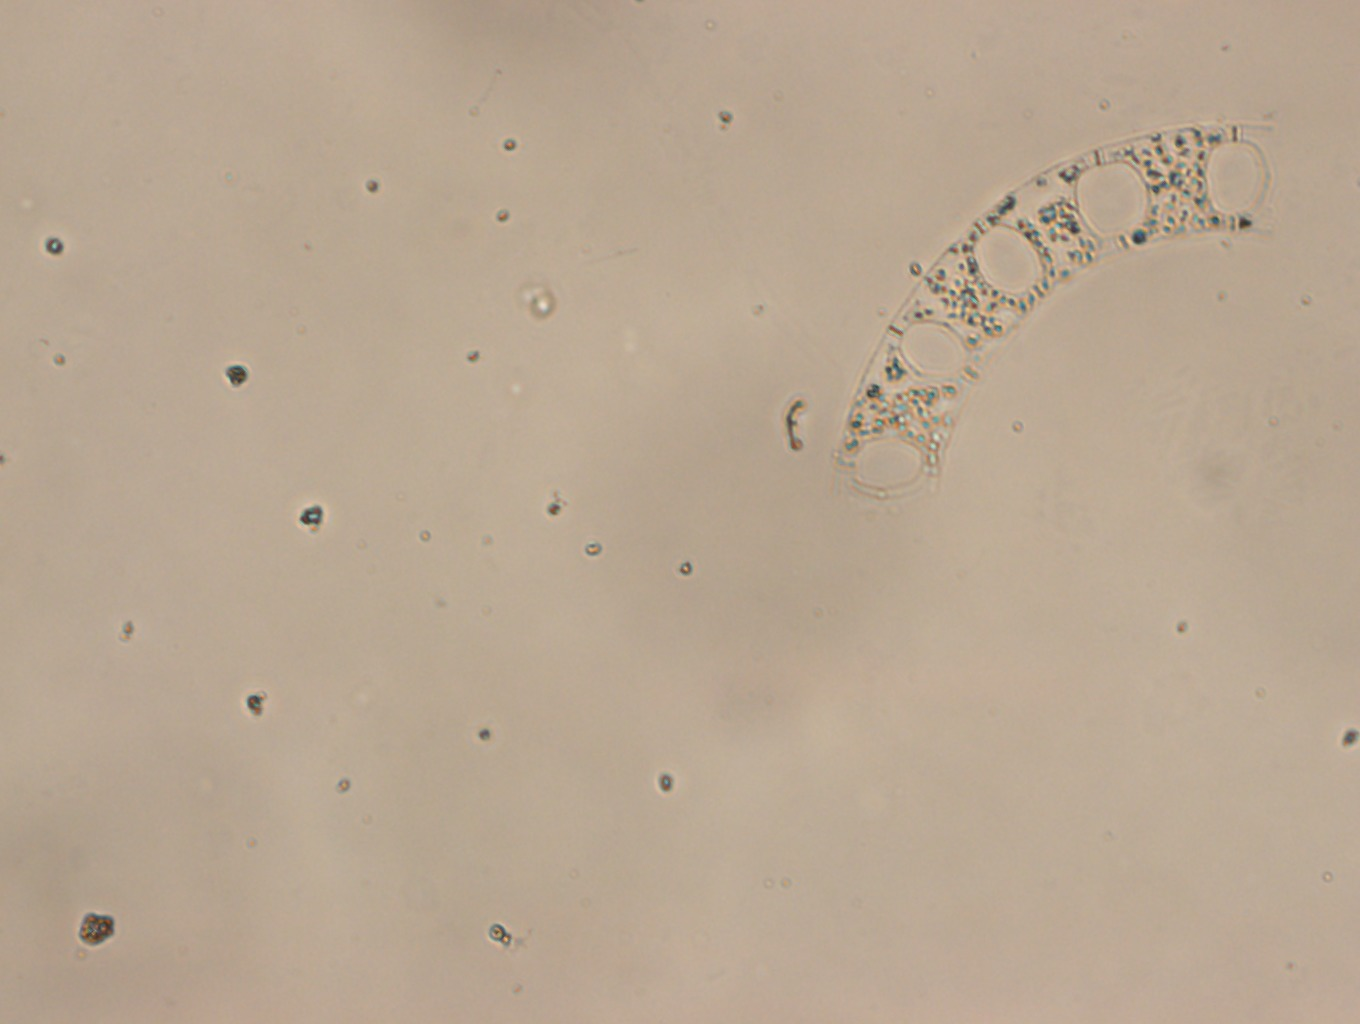eucampia: (827, 122, 1280, 506)
